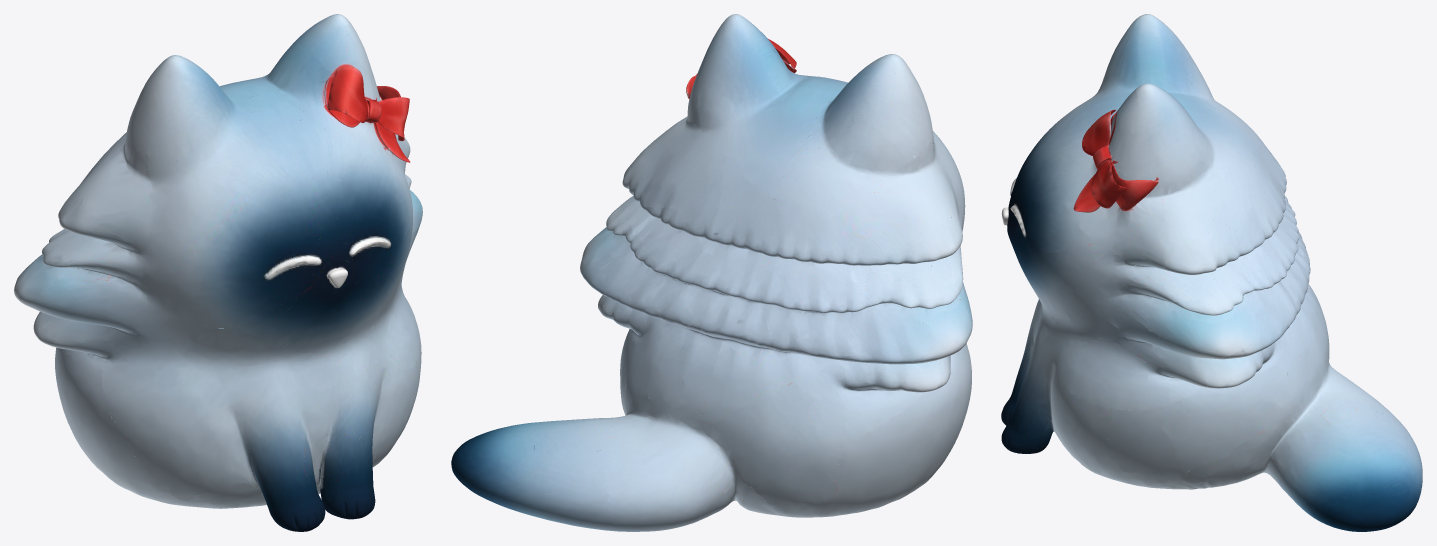
File: cherry-bow-BXzKjuOk.glb
3 views of the same model, side by side, from view 1: azimuth 30°, elevation 25°; view 2: azimuth 150°, elevation 25°; view 3: azimuth 270°, elevation 25° (orthographic). The views are drawn at different scales.
Visible parts, largest first — view 1: worn-cherry-bow; view 2: worn-cherry-bow; view 3: worn-cherry-bow.
Part boxes in pixels (<box>): worn-cherry-bow: <box>14,14,422,531</box>; worn-cherry-bow: <box>451,14,972,531</box>; worn-cherry-bow: <box>1001,14,1422,531</box>.
Bounding box in the file's own units: 1.9 × 1.79 × 1.74.
1 material, 1 textured.
